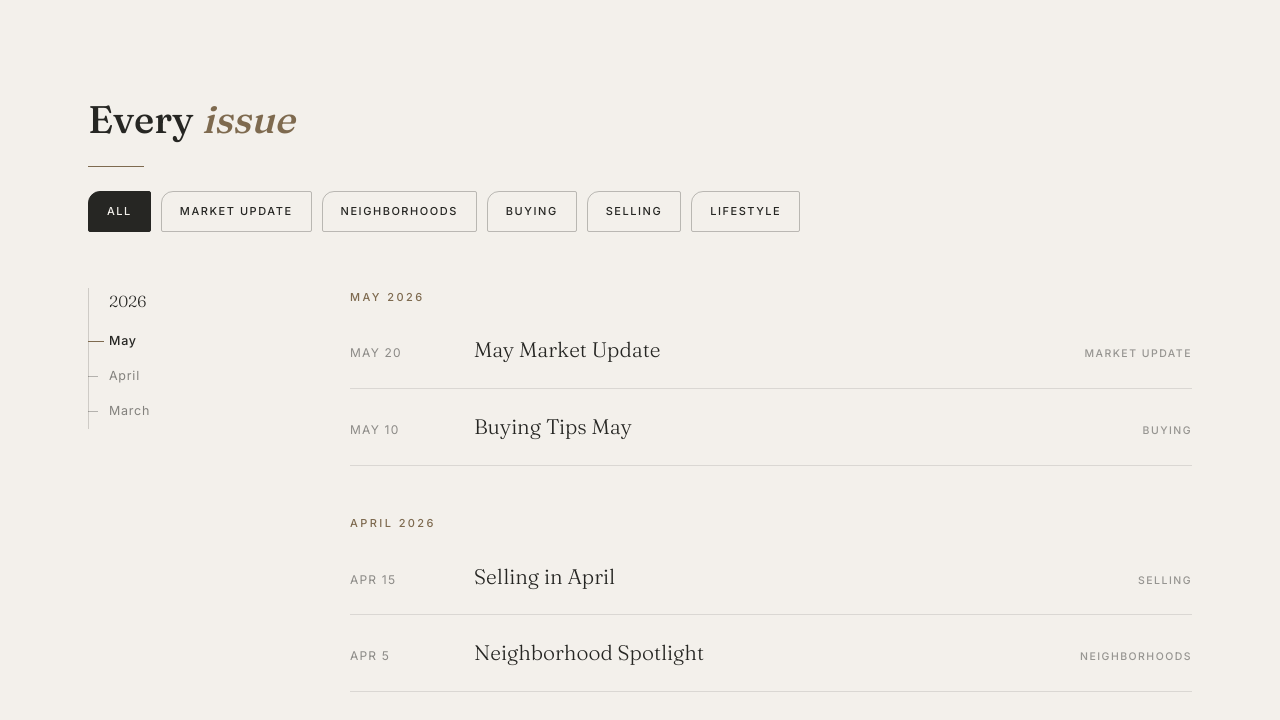
Test: BlogArchive › clicking Selling filters rows to Selling posts only
This screenshot has width=1280, height=720.
Click the button "Selling" at (634, 211), box [587, 191, 681, 232]
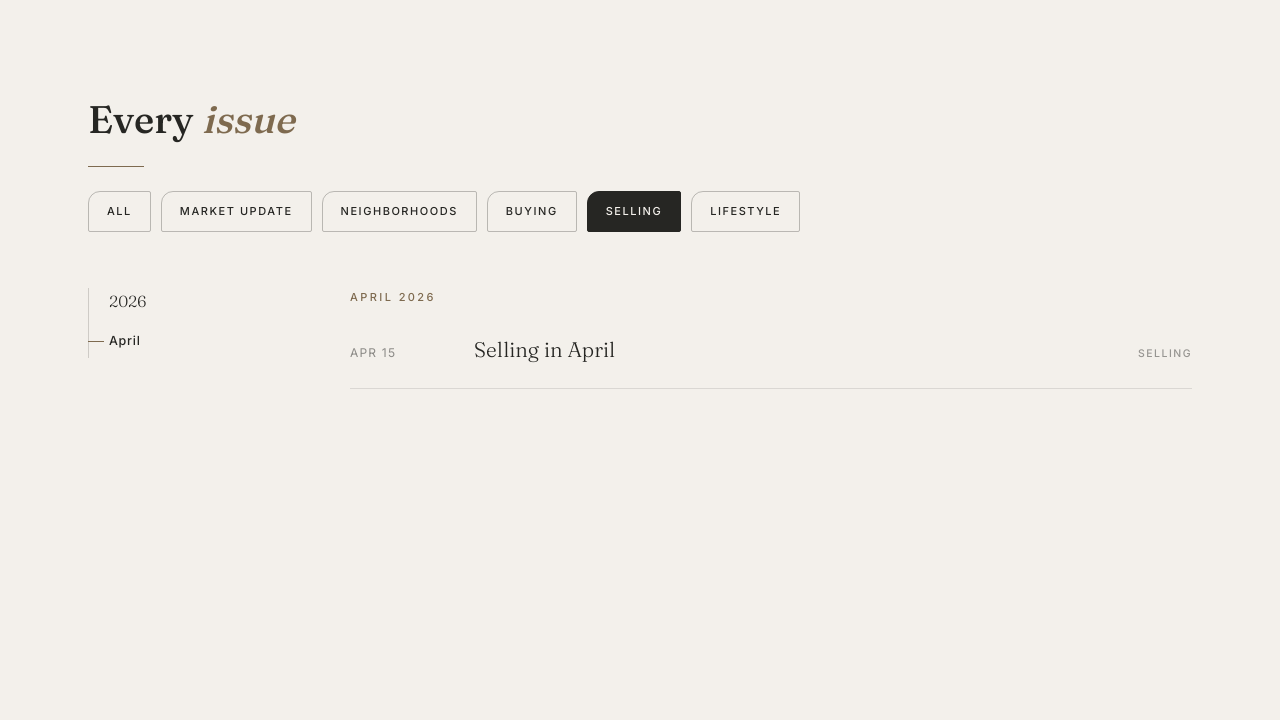
Check: the link "May Market Update" is gone
Check: the link "Buying Tips May" is gone
Check: the link "Neighborhood Spotlight" is gone
